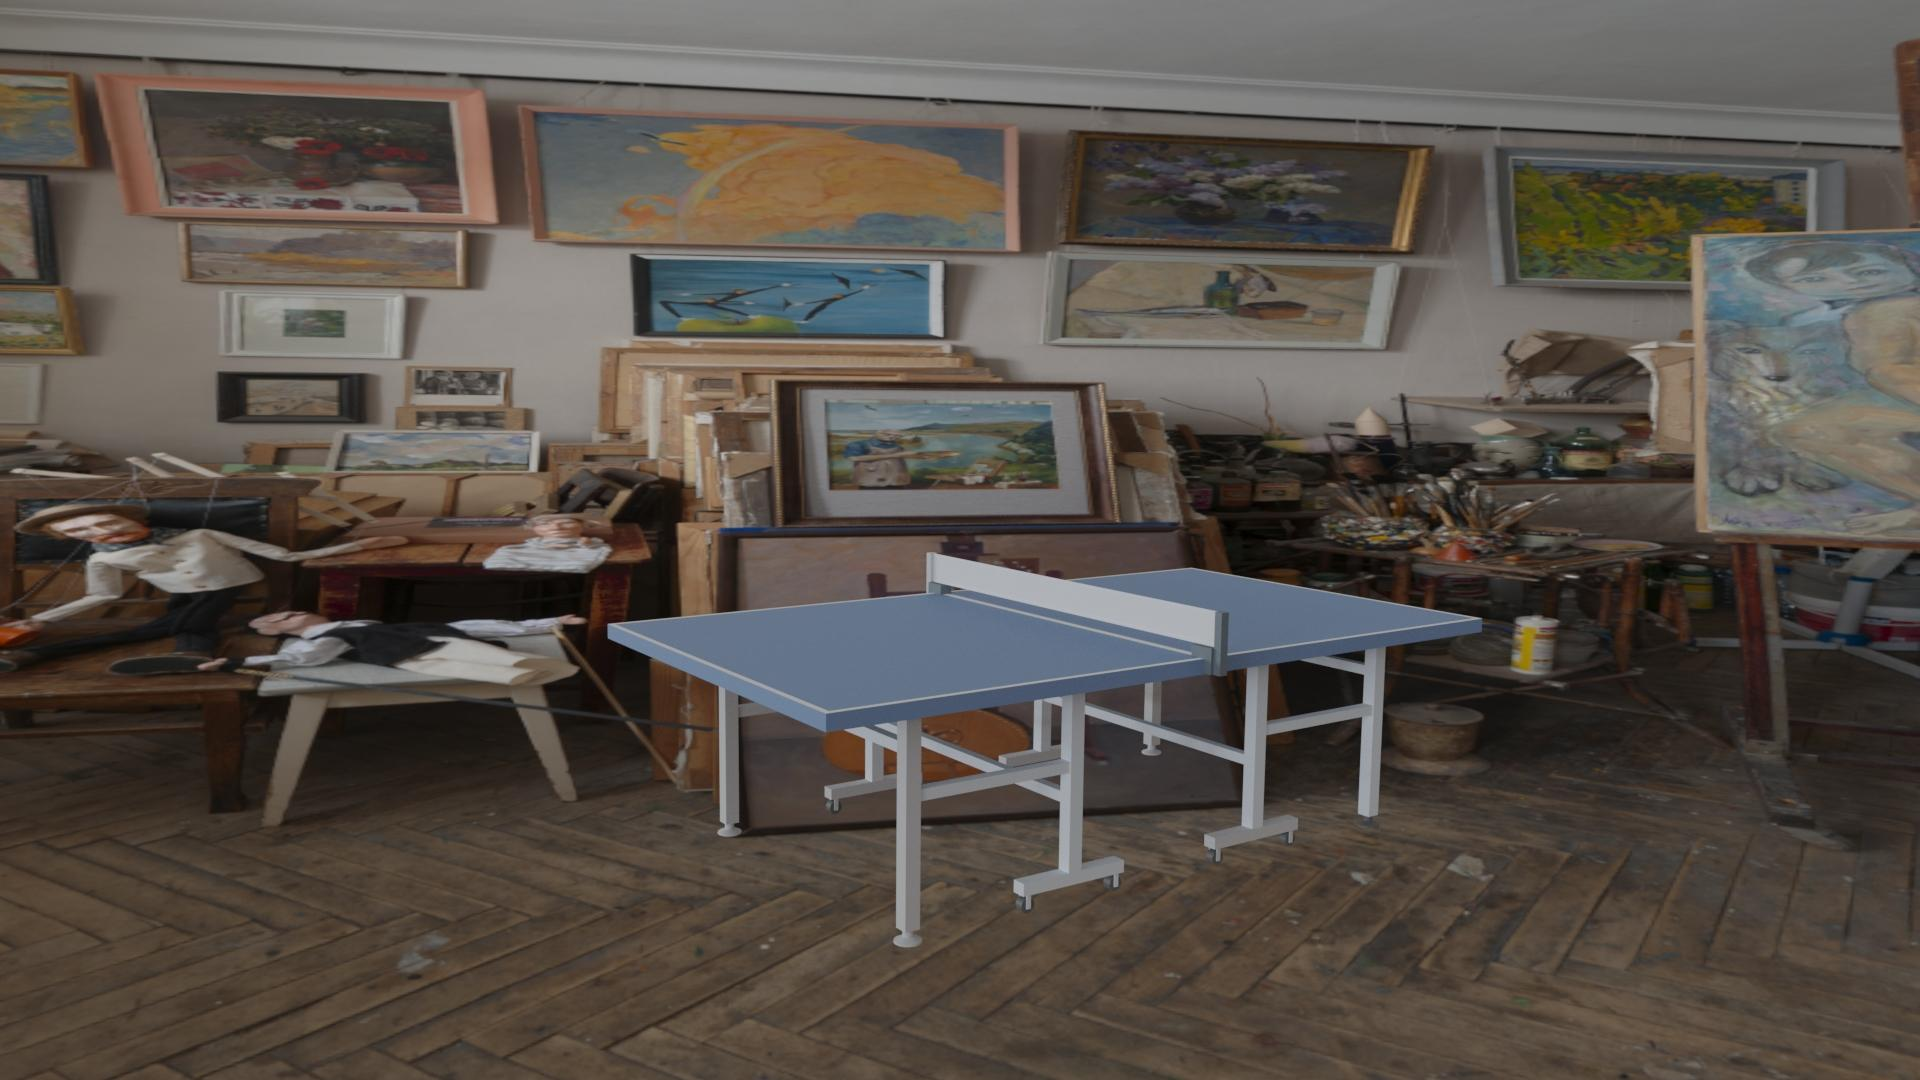table: (616, 568, 1474, 711)
